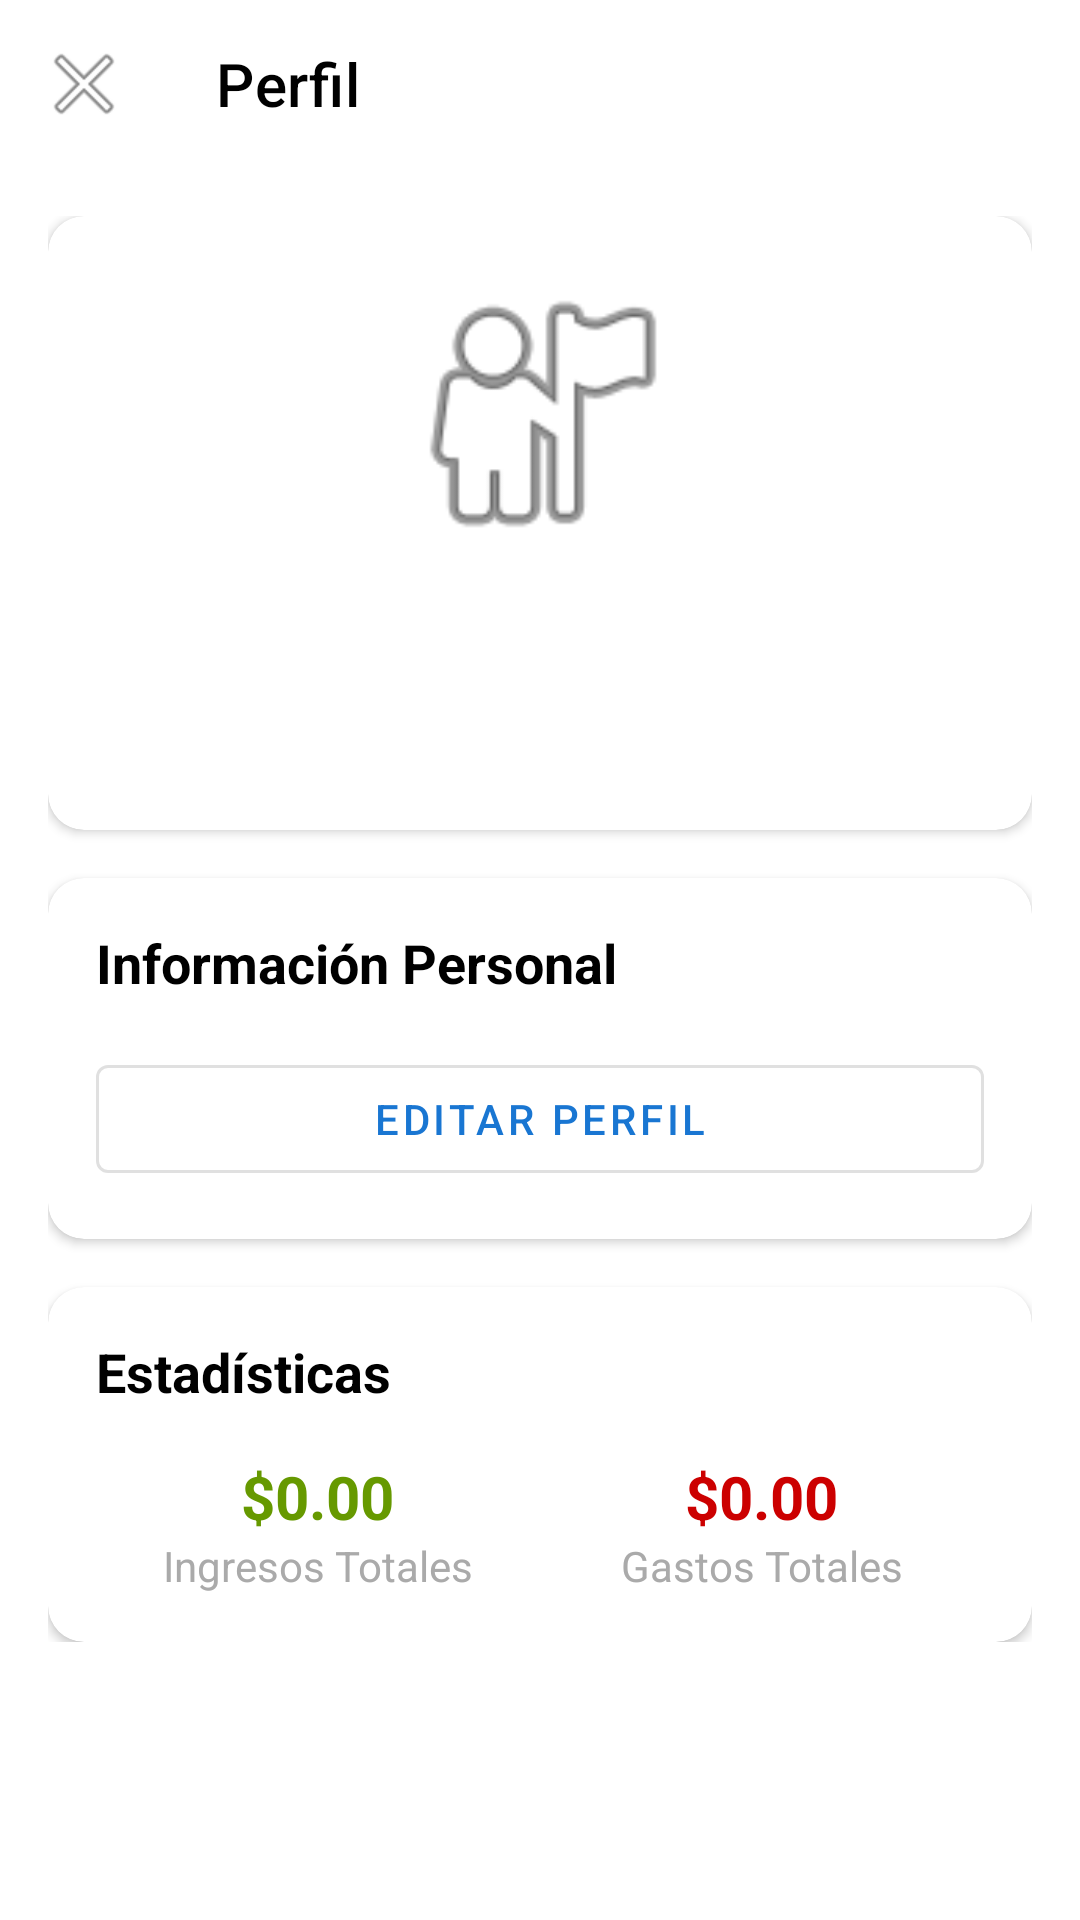

Where icons sit on this 1080 x 1920 app screen, as (x1, y1, x2, y2):
myplaces: (430, 302, 656, 526)
